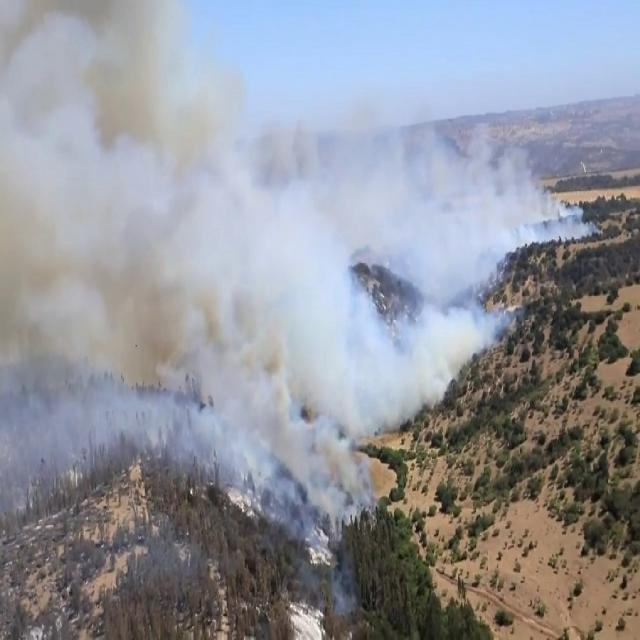Smoke: (19, 44, 602, 518)
